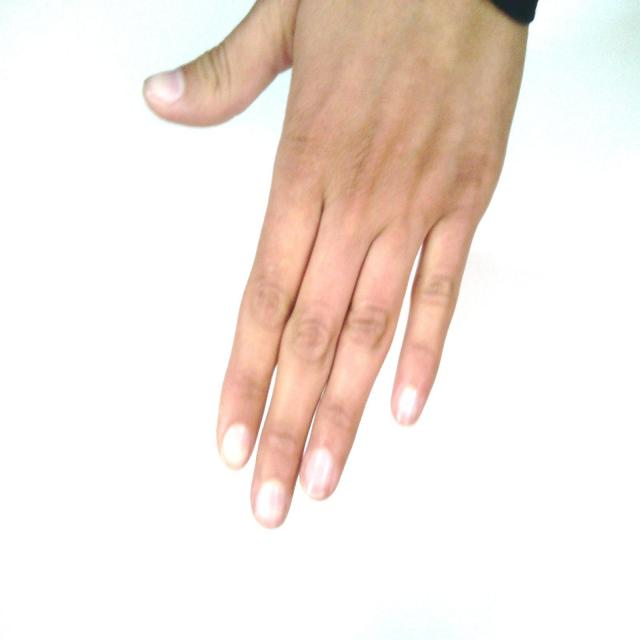others: (133, 1, 624, 532)
